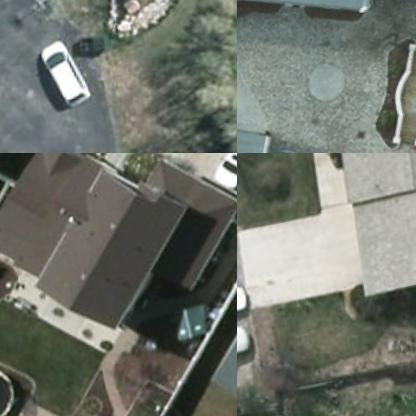car: (30, 30, 111, 115), (201, 153, 236, 193), (237, 280, 254, 327), (264, 143, 312, 152)
pickup: (237, 317, 263, 377)
